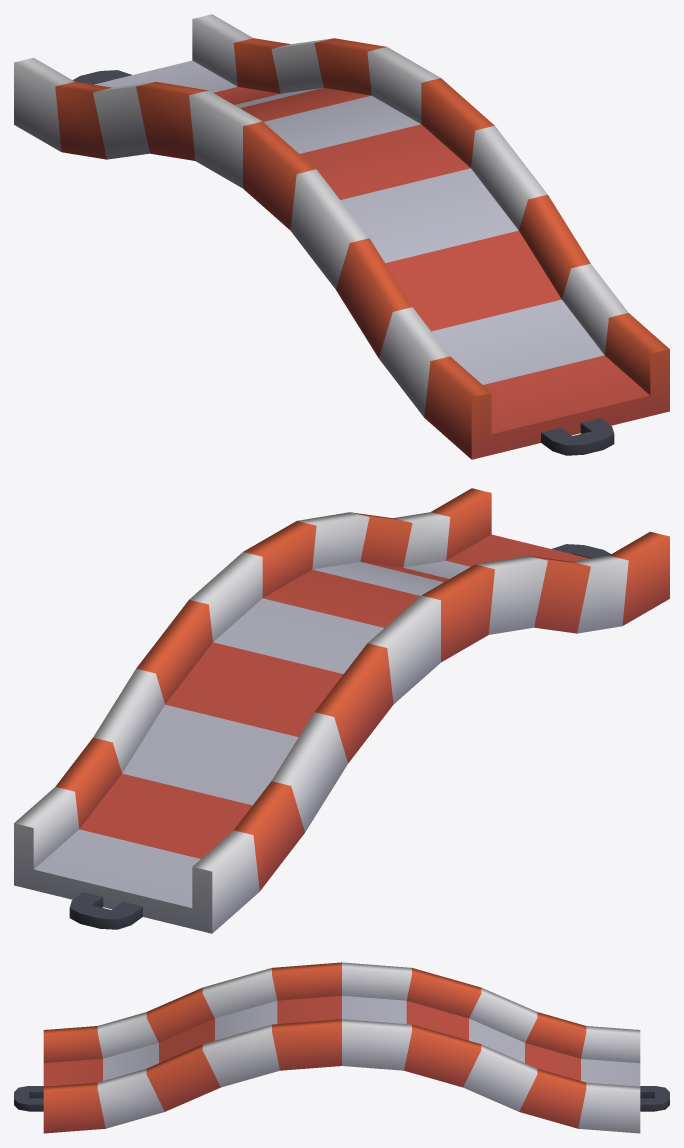
File: track-striped-narrow-straight-bump-up.glb
The picture shows the model from 3 angles, top to bottom: view 1: azimuth 30°, elevation 25°; view 2: azimuth 150°, elevation 25°; view 3: azimuth 270°, elevation 25°; orthographic projection. The views are drawn at different scales.
Parts seen in each view (by area): view 1: track-striped-narrow-straight-bump-up; view 2: track-striped-narrow-straight-bump-up; view 3: track-striped-narrow-straight-bump-up.
Boxes of the visible parts, box(x1,y1,x2,y2) form: track-striped-narrow-straight-bump-up: box(14, 14, 669, 459); track-striped-narrow-straight-bump-up: box(14, 488, 669, 933); track-striped-narrow-straight-bump-up: box(14, 962, 669, 1133).
Size of the model in its own units: 1 by 0.8 by 4.4.
